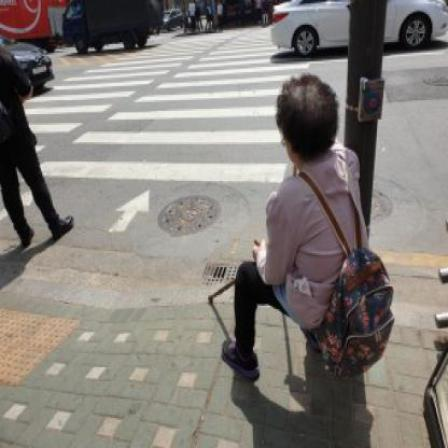silver: (207, 78, 366, 374)
